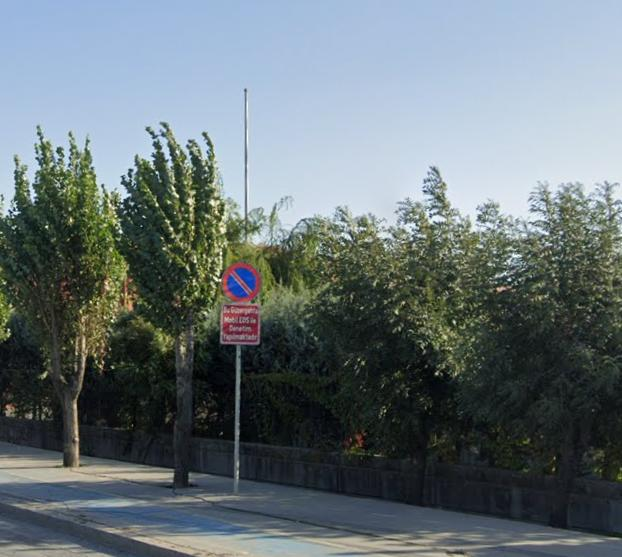nopark: (225, 265, 259, 299)
